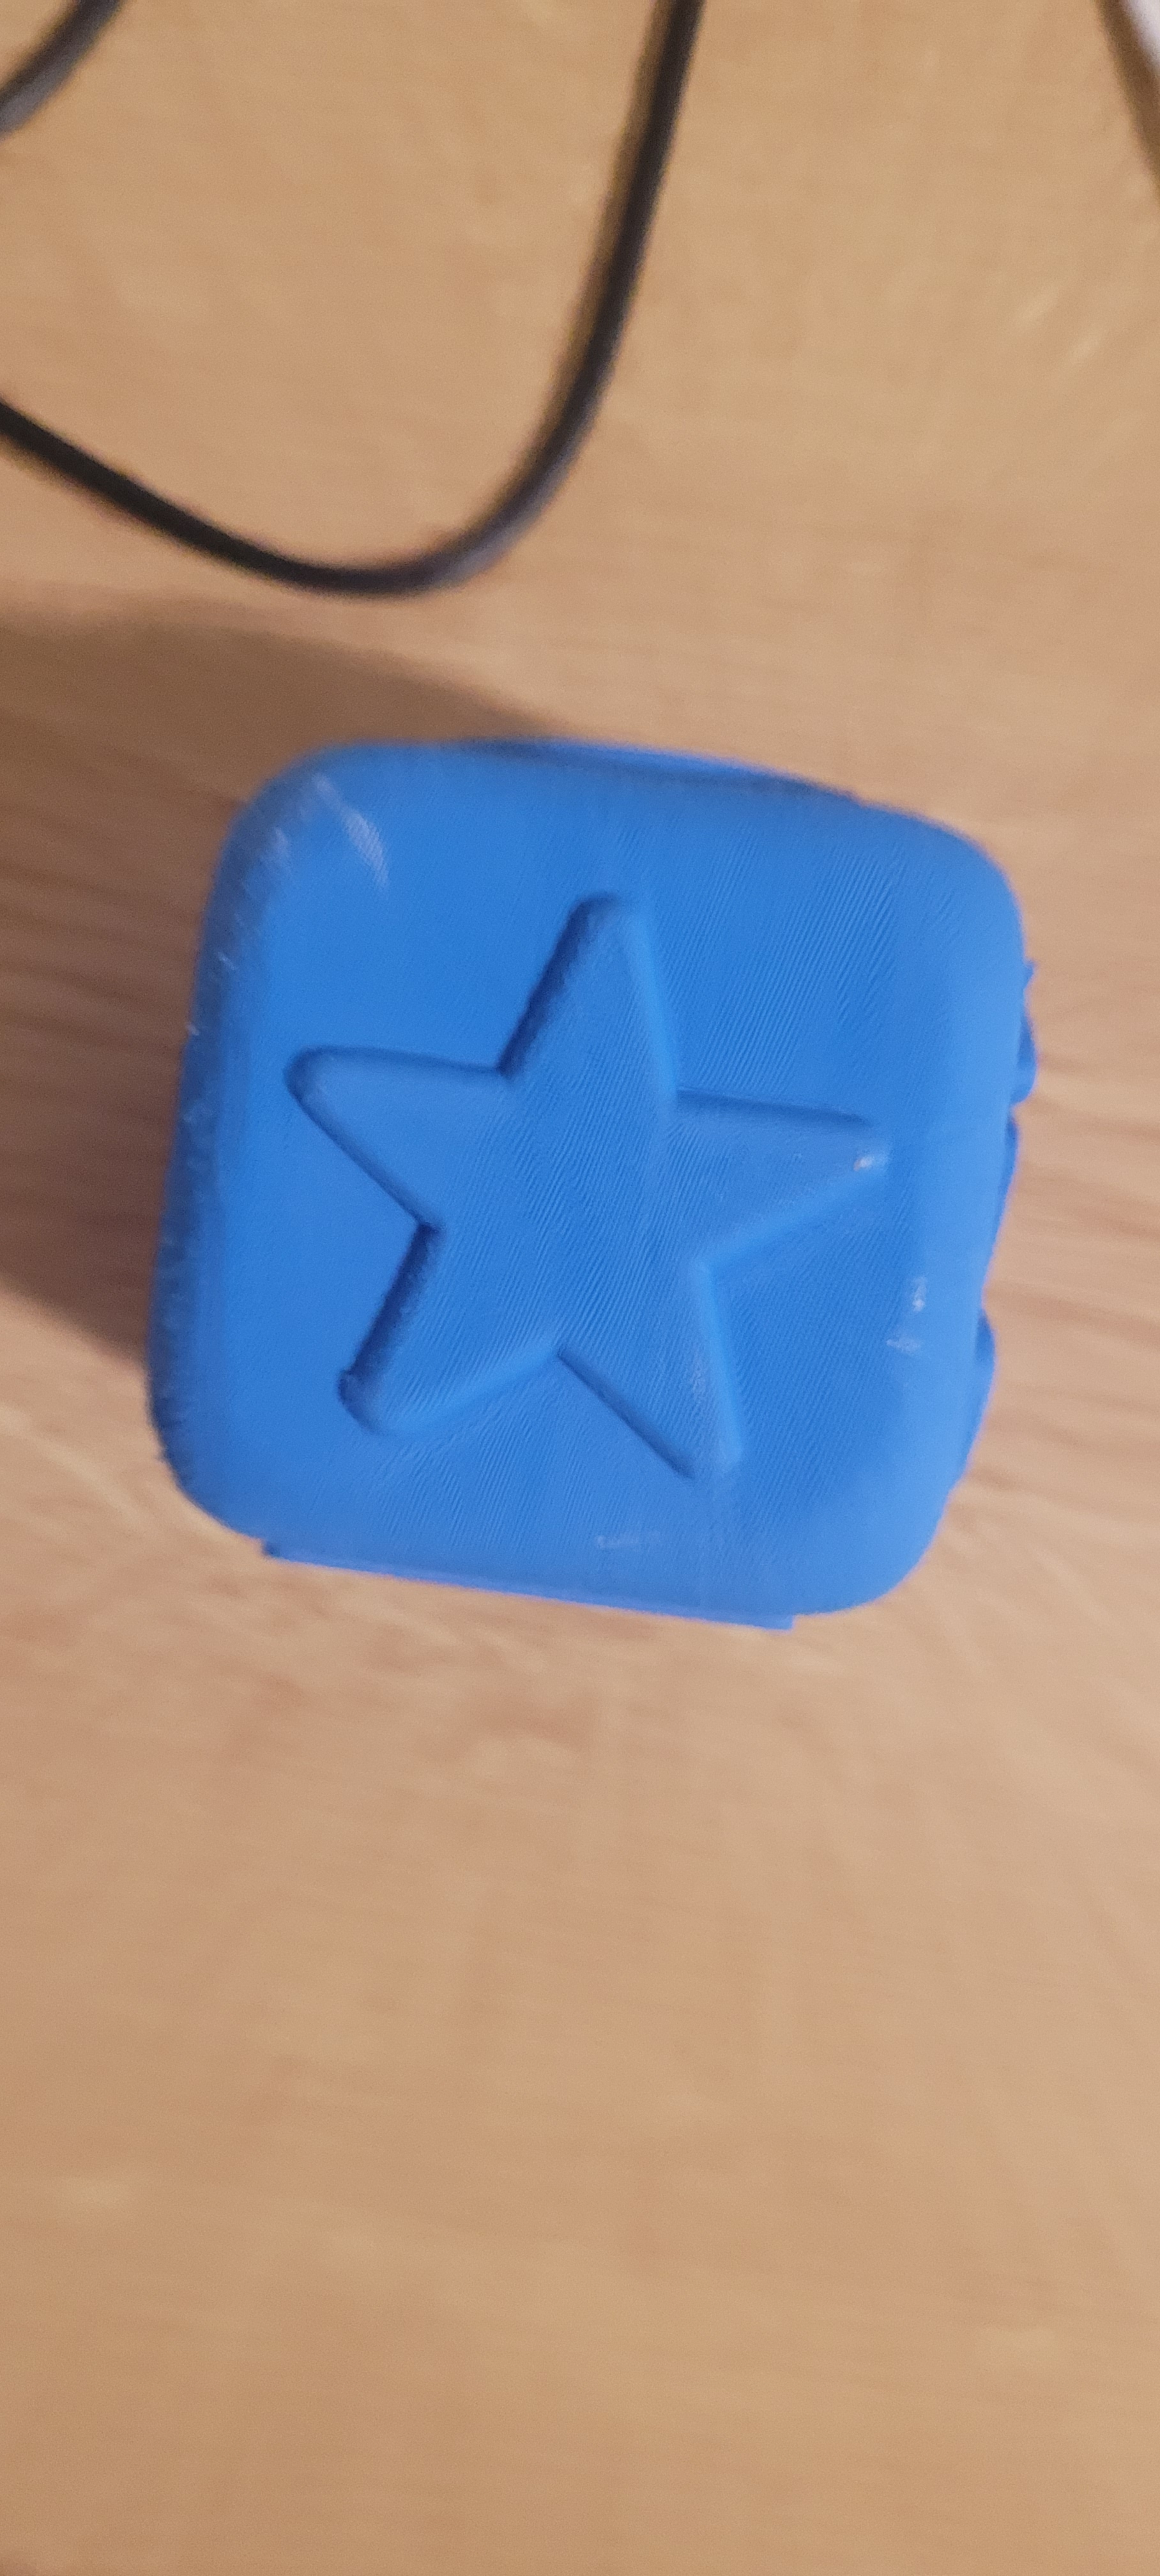Star: (301, 766, 894, 1536)
